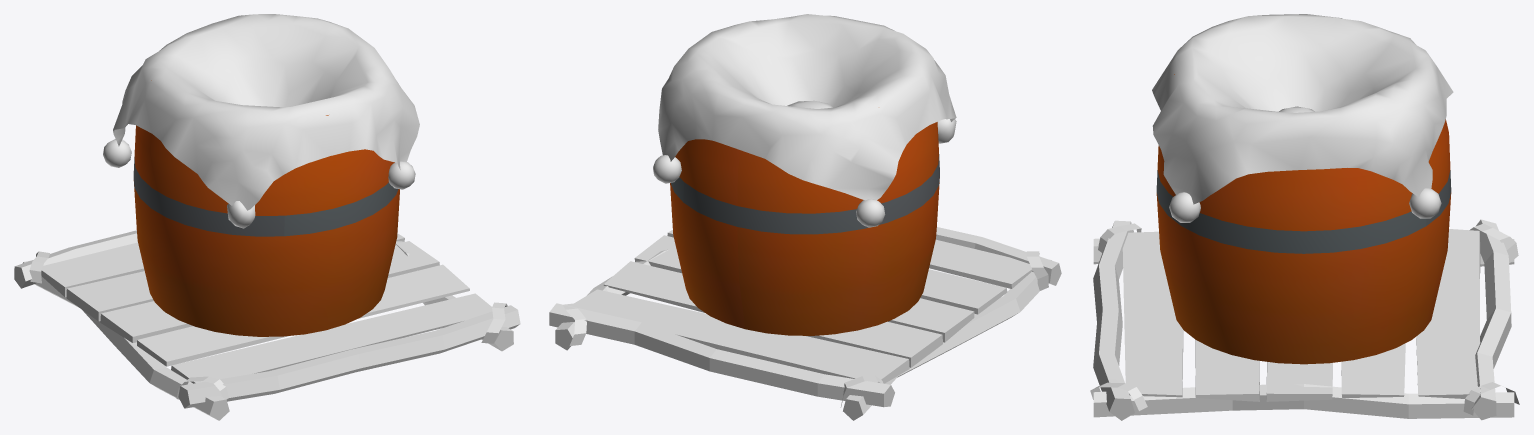
File: WaterRaft.fbx
The picture shows the model from 3 angles, left to right: view 1: azimuth 30°, elevation 25°; view 2: azimuth 150°, elevation 25°; view 3: azimuth 270°, elevation 25°; orthographic projection. The views are drawn at different scales.
Parts seen in each view (by area): view 1: Cylinder.004, Grid, Cylinder.002, Icosphere.004, Icosphere.002, Icosphere.003; view 2: Cylinder.004, Grid, Cylinder.002, Icosphere.004, Icosphere.001; view 3: Cylinder.004, Grid, Cylinder.002, Icosphere.001, Icosphere.002.
Boxes of the visible parts, x1,y1,x2,y2 form: Cylinder.004: (133,80,399,336); Grid: (113,14,419,210); Cylinder.002: (14,230,520,420); Icosphere.004: (103,139,131,167); Icosphere.002: (388,161,415,189); Icosphere.003: (227,201,255,228); Cylinder.004: (670,122,939,335); Grid: (658,14,956,200); Cylinder.002: (549,227,1061,420); Icosphere.004: (856,199,885,227); Icosphere.001: (653,155,681,183); Cylinder.004: (1156,74,1451,364); Grid: (1152,14,1453,204); Cylinder.002: (1090,219,1519,420); Icosphere.001: (1409,188,1441,218); Icosphere.002: (1169,192,1200,222).
Size of the model in its own units: 217 by 160 by 220.
